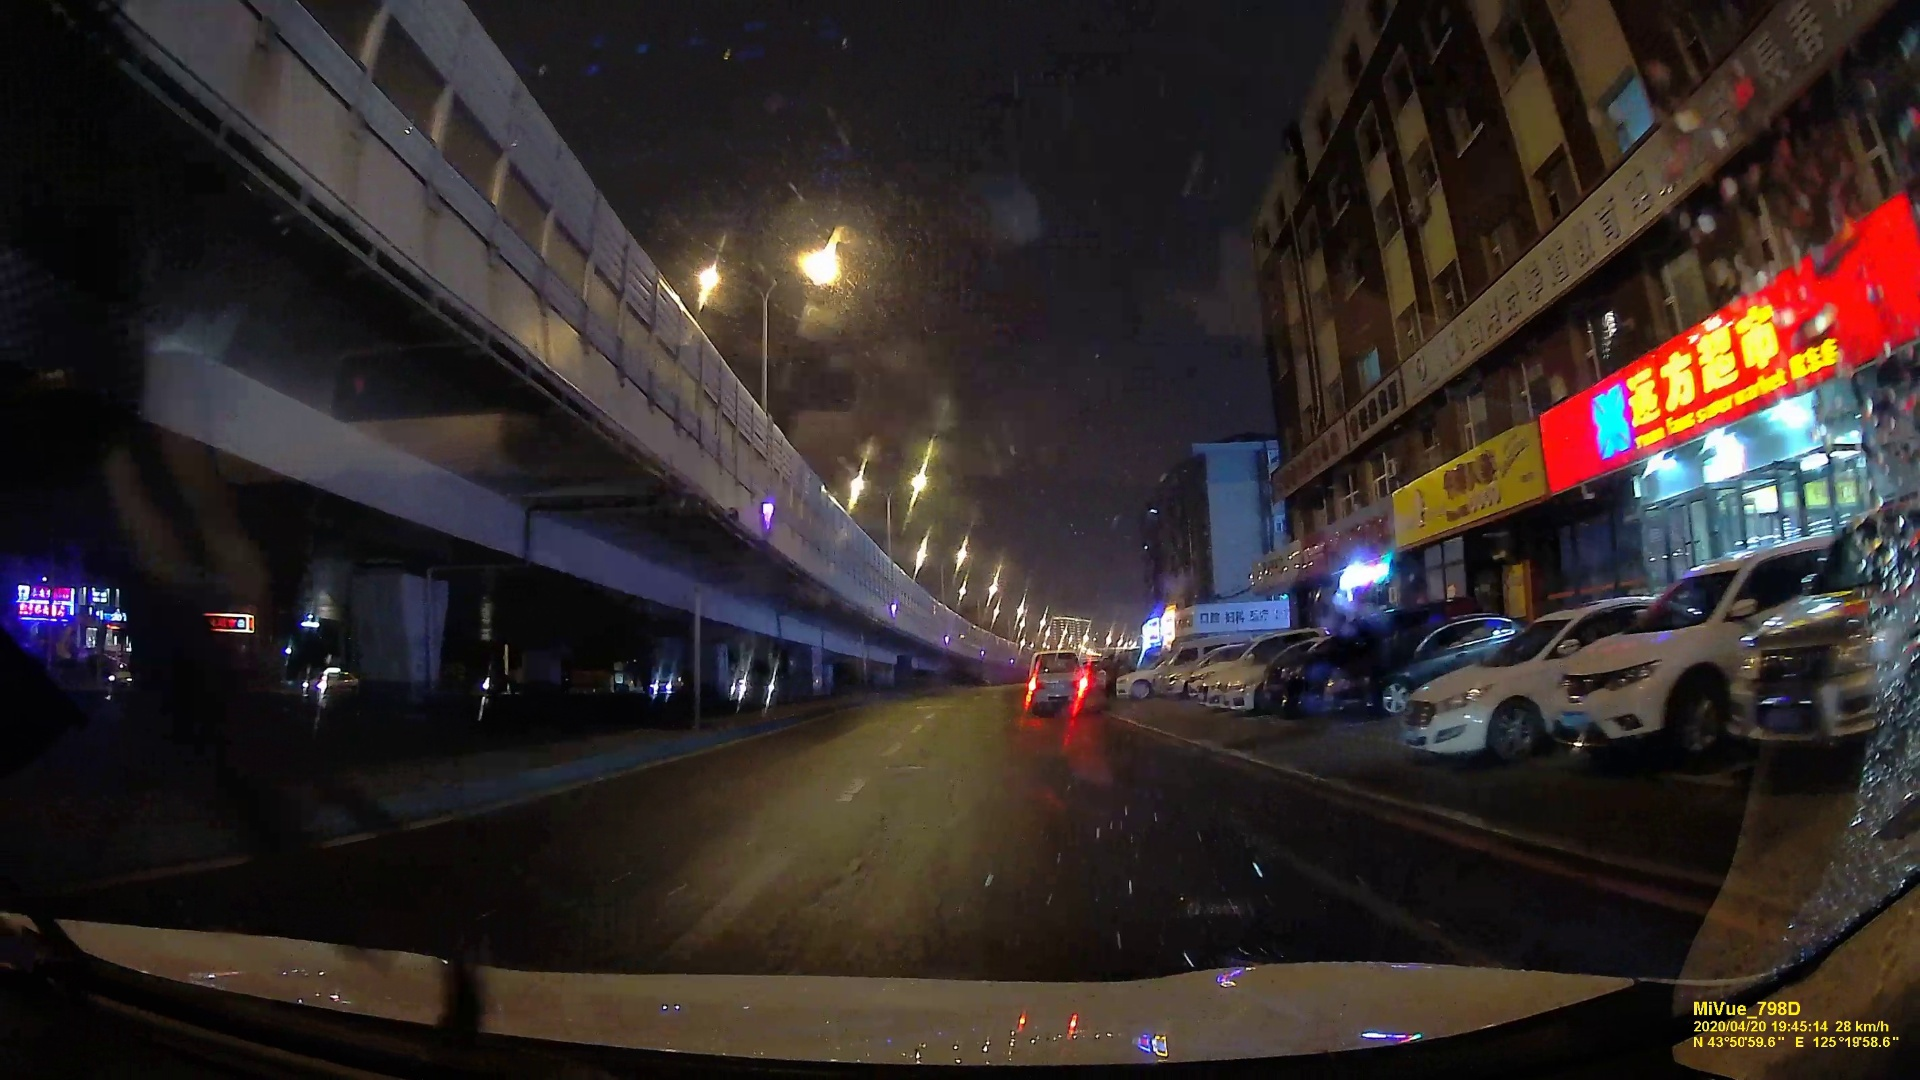minibus: (1025, 651, 1088, 712)
person: (1101, 652, 1121, 700)
vehicle: (1731, 508, 1920, 754), (1562, 579, 1727, 764), (1393, 621, 1559, 762), (303, 670, 357, 693)
